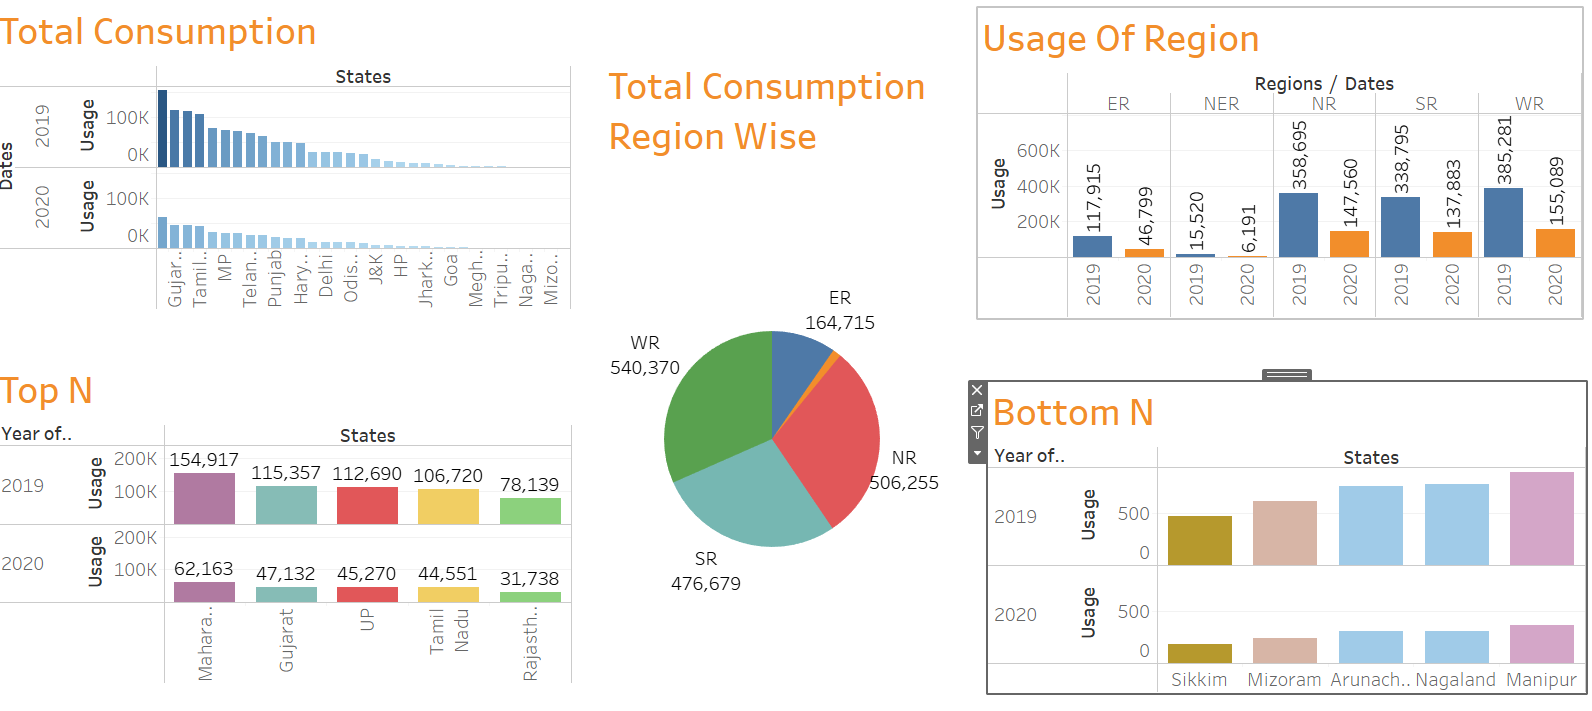

Layout of this report page (visuals, bound fields, positions):
{"tool":"tableau","page":{"name":" Dashboard 2","canvas":[1000,1000],"units":"permille","ordinal":1},"visuals":[{"type":"worksheet","title":"Total Consumption","mark":"Automatic","rows":["Dates","Usage"],"cols":["States"],"box":[4.2,17.4,359.4,415.6]},{"type":"worksheet","title":"Usage of Region","mark":"Bar","rows":["Usage"],"cols":["Regions","Dates"],"box":[617.2,26.8,376.8,415.6]},{"type":"worksheet","title":" Total Consumption Region Wise","mark":"Pie","box":[384,91.2,209.7,872.6]},{"type":"worksheet","title":"Top N","mark":"Automatic","rows":["Dates","Usage"],"cols":["States"],"box":[4.2,498.7,360,434.3]},{"type":"worksheet","title":"Bottom N","mark":"Automatic","rows":["Dates","Usage"],"cols":["States"],"box":[623.2,528.1,373.2,416.9]}]}

Visuals, with their boxes on the dashboard's canvas, which has no fixed pixel size, in thousandths of its width and height (x1, y1, x2, y2). These are canvas units, not pixel positions in the 1592x711 screenshot, which may show the page scaled, cropped or inside an application window:
"Total Consumption" worksheet: detection(4, 17, 364, 433)
"Usage of Region" worksheet (Bar marks): detection(617, 27, 994, 442)
" Total Consumption Region Wise" worksheet (Pie marks): detection(384, 91, 594, 964)
"Top N" worksheet: detection(4, 499, 364, 933)
"Bottom N" worksheet: detection(623, 528, 996, 945)
